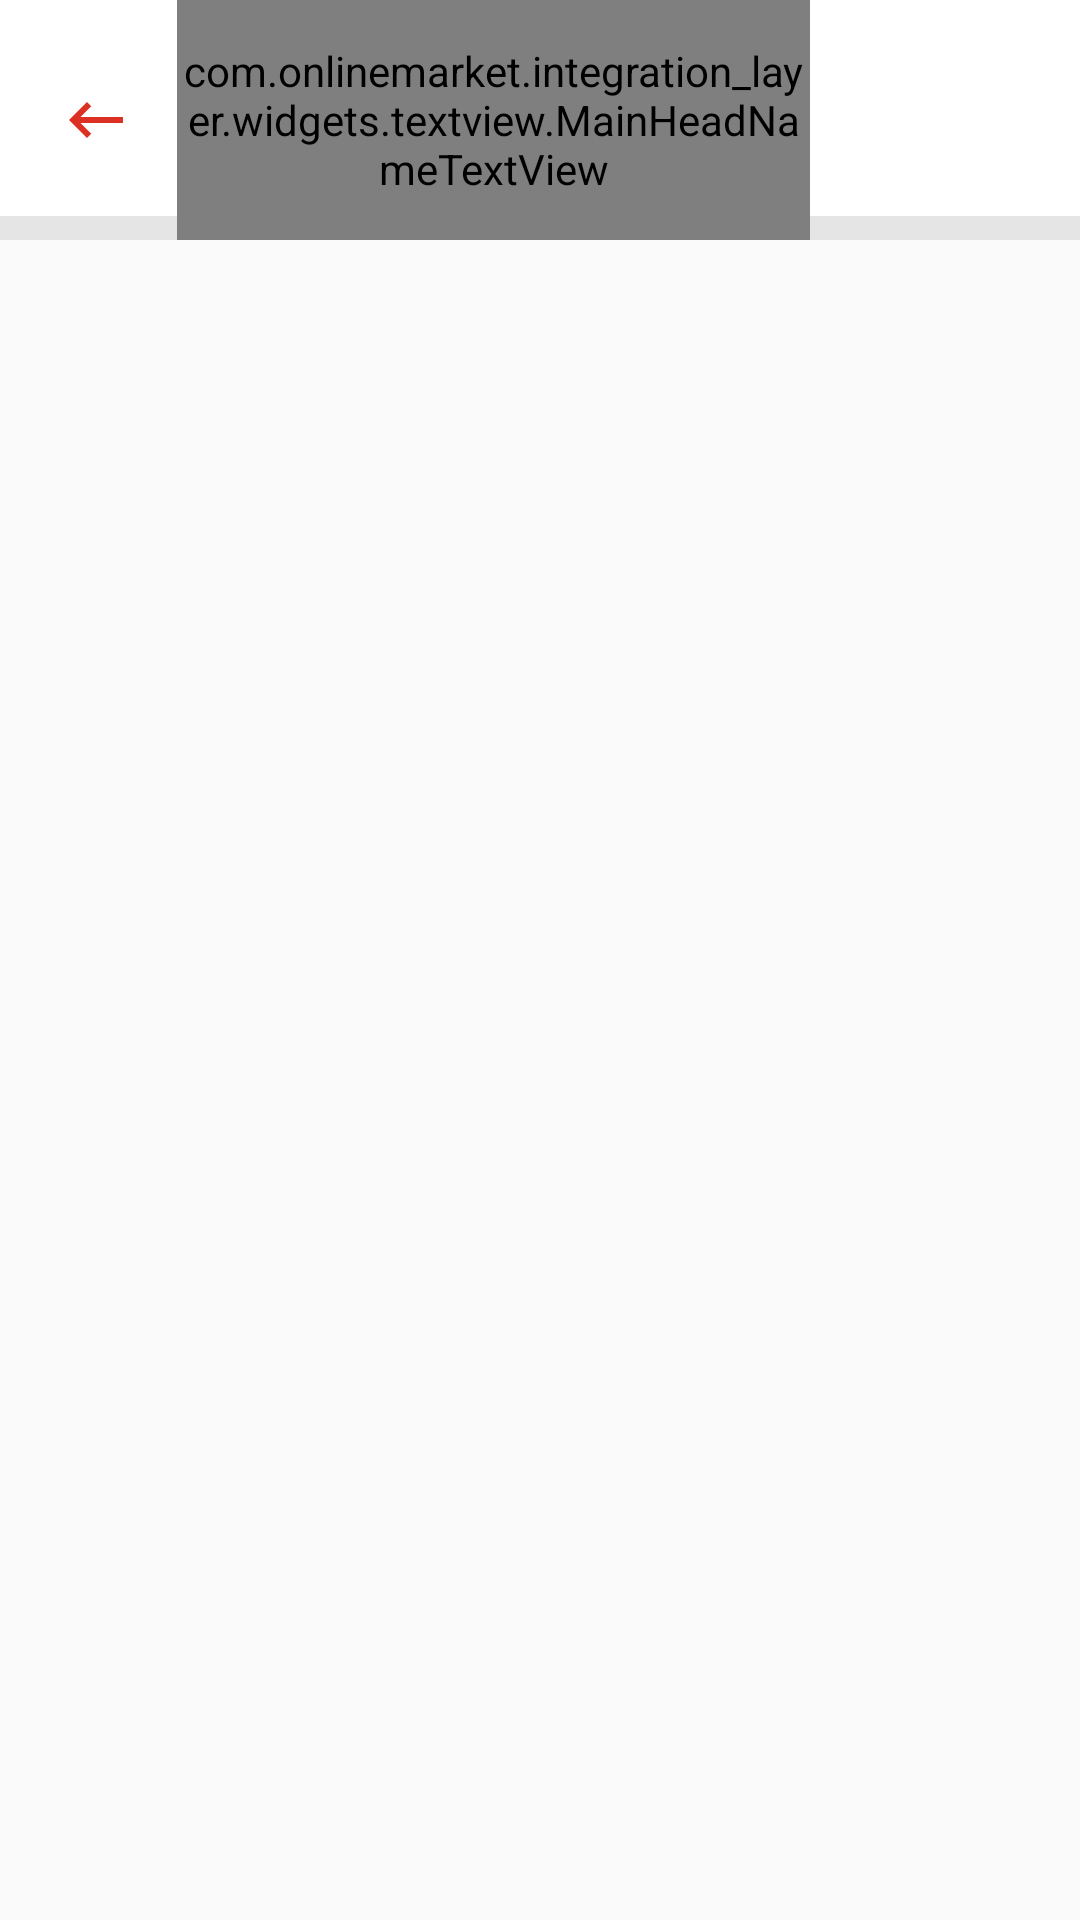

Icons on this 1080 × 1920 Android screen, each with its box as (x1, y1, x2, y2):
back: (69, 102, 123, 138)
